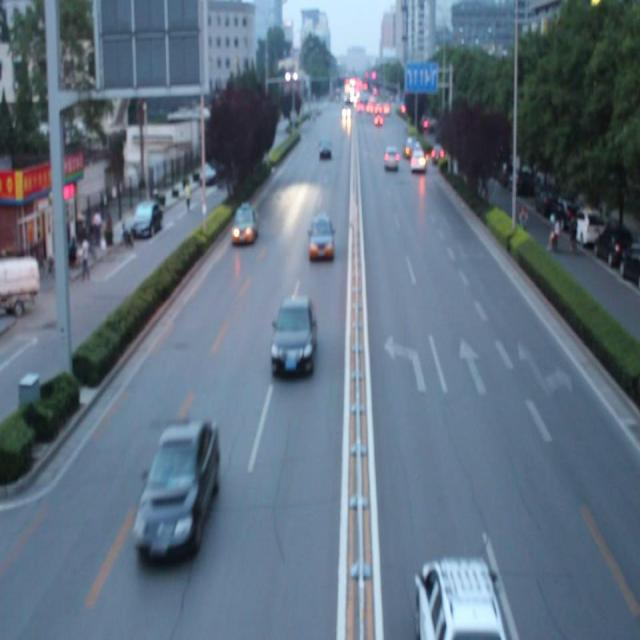car: (131, 415, 219, 563), (415, 554, 503, 640), (270, 295, 318, 375), (229, 204, 259, 248), (306, 213, 334, 260)
